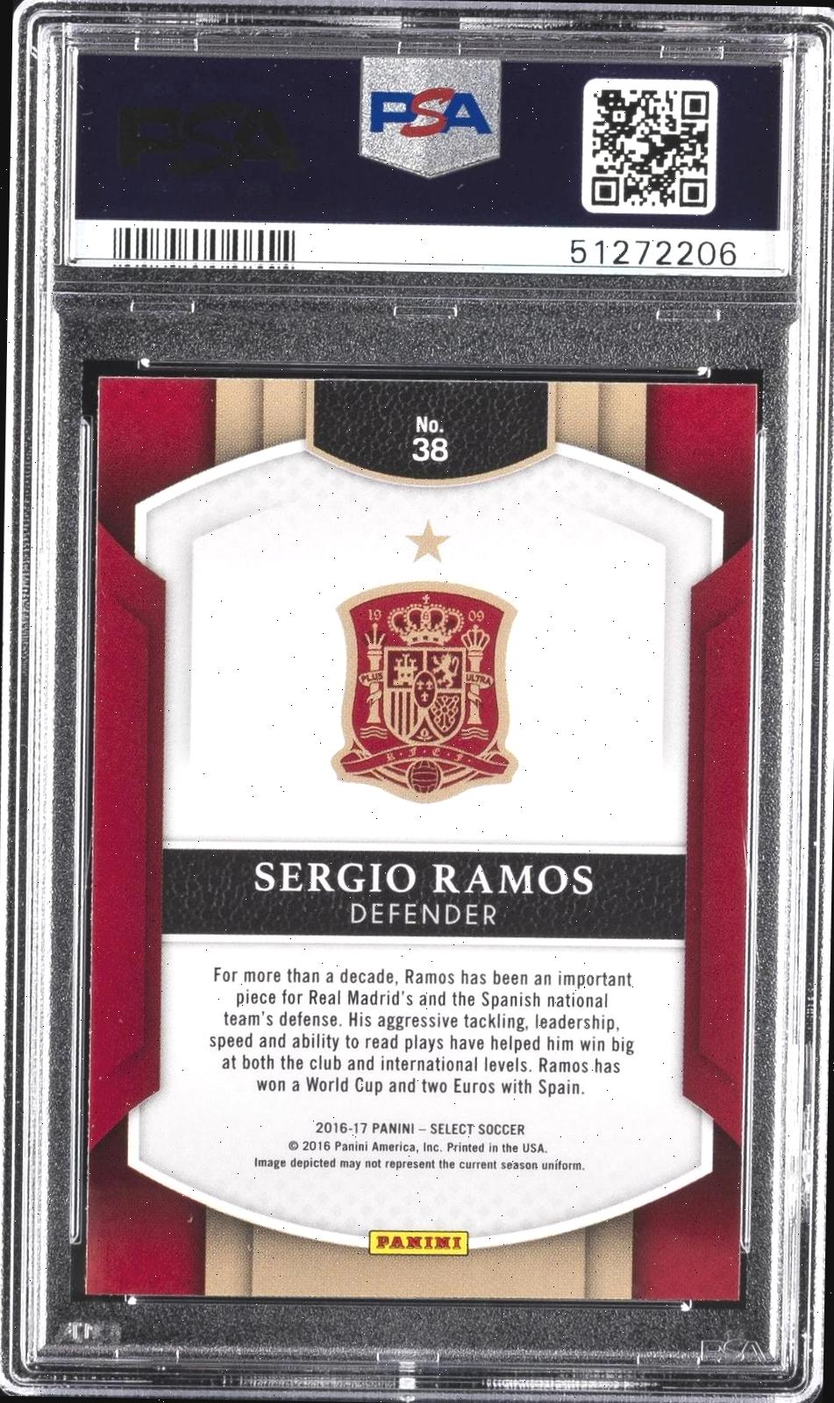card-2UtV: (83, 374, 758, 1302)
